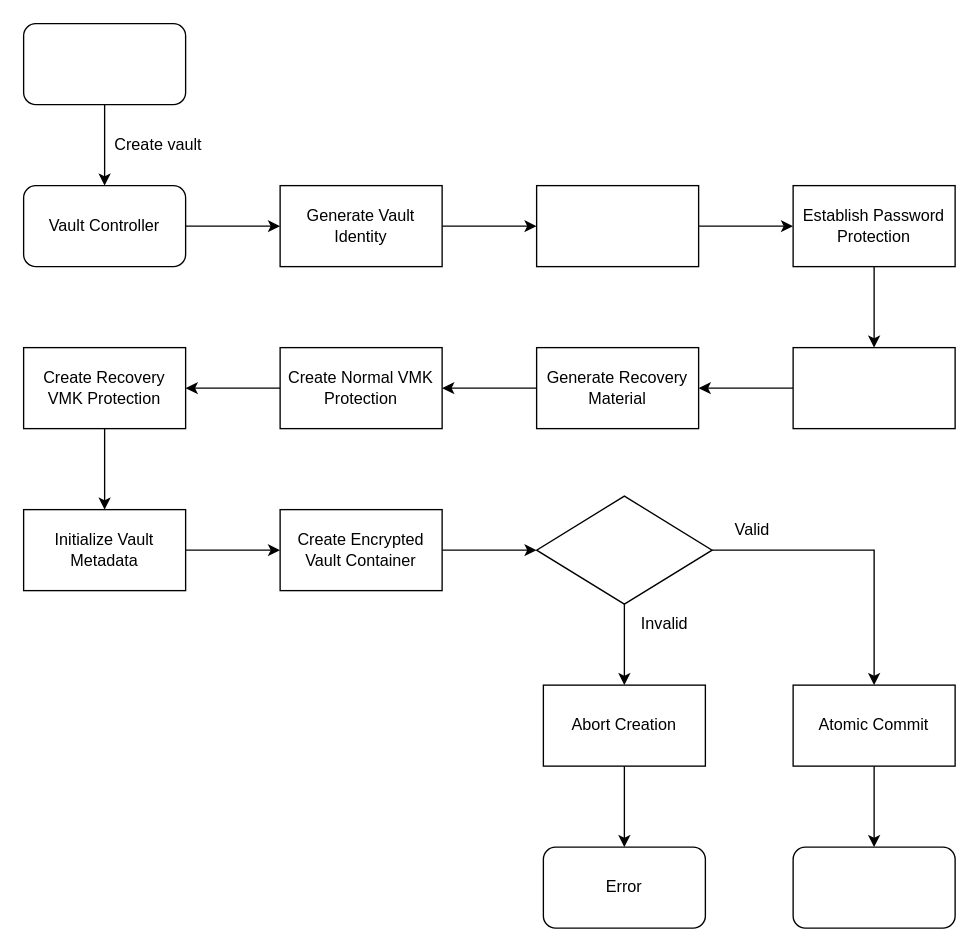
The diagram is 979 pixels wide and 952 high, and some of its shapes have lost their labels. Each missing label, with the centre of its shape:
Generate and Enroll Possession-Factor Material: the point at 873,387
Generate VMK: the point at 617,225
Sealed: the point at 873,887
User Interface: the point at 104,63
Validate Complete Initial State: the point at 623,549
